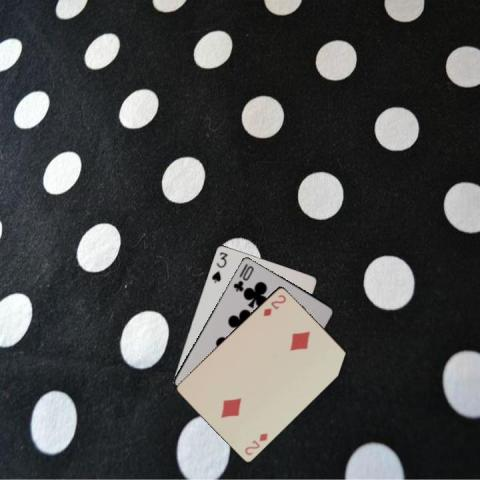10c: (230, 260, 255, 292)
2d: (242, 429, 270, 457), (260, 292, 287, 318)
3s: (208, 249, 228, 284)
